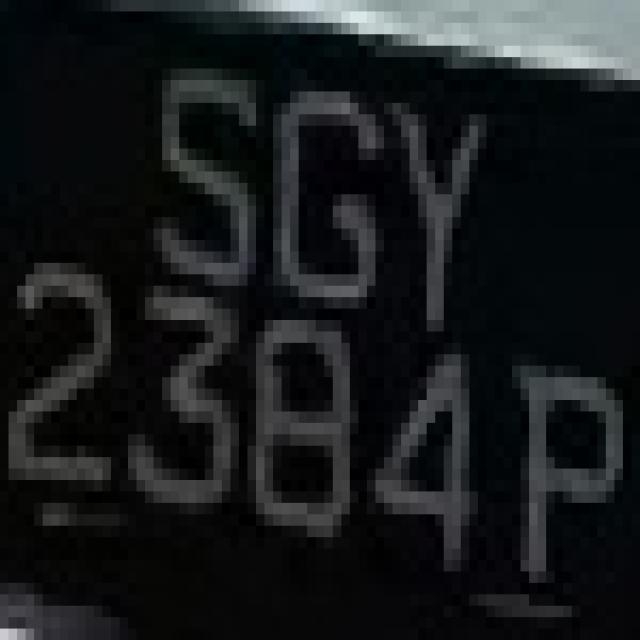2: (0, 217, 137, 572)
3: (128, 229, 247, 537)
4: (375, 320, 495, 594)
8: (205, 297, 367, 583)
G: (248, 46, 376, 320)
P: (486, 320, 640, 594)
S: (136, 0, 264, 297)
Y: (358, 46, 504, 331)
